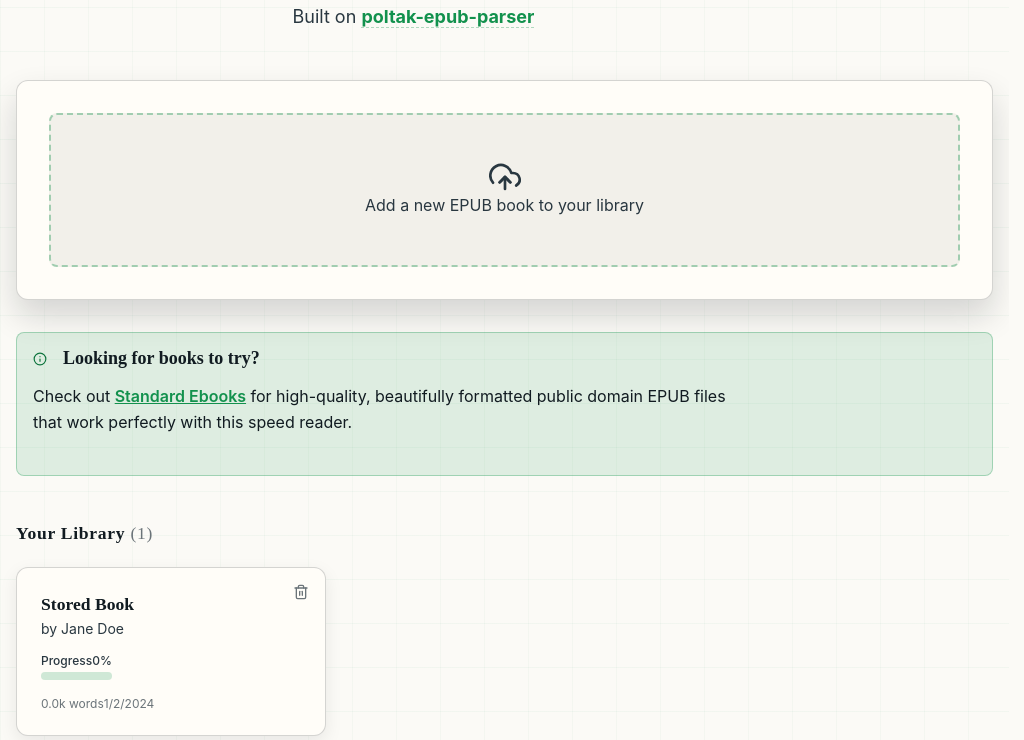
SpeedReader page › reports incomplete stored EPUB data instead of leaving a partial reader state
(page scrolled)
Click the button with aria-label "Open Stored Book" at (171, 652), box [41,592,301,711]
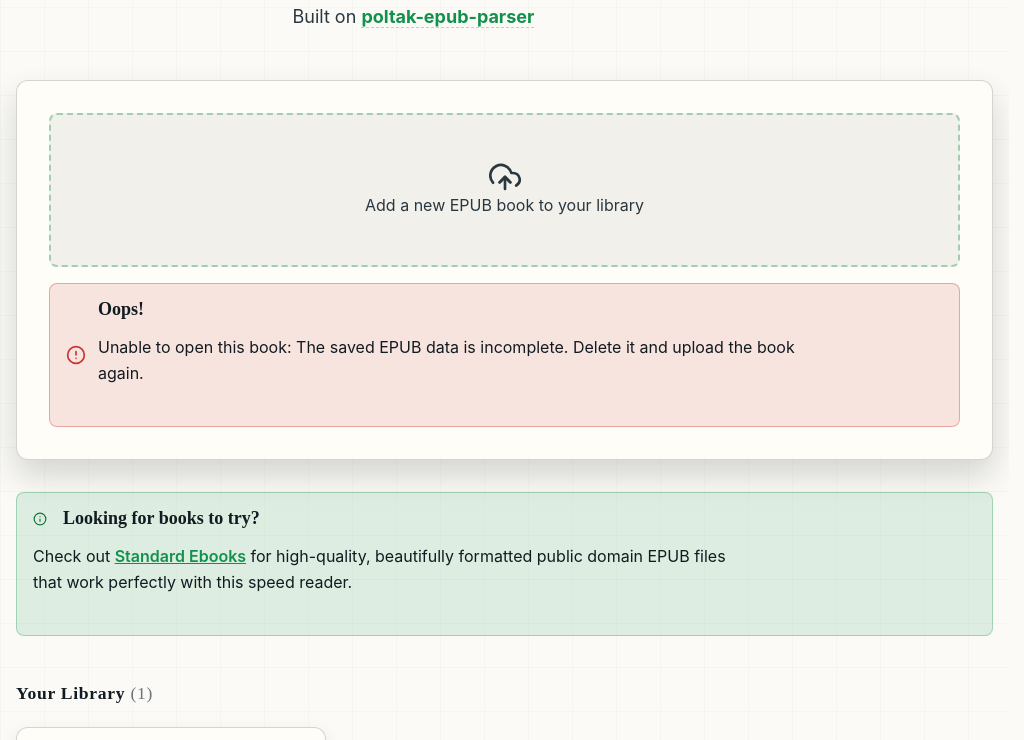
Result: the text "Unable to open this book: The saved EPUB data is incomplete. Delete it and upload the book again." is shown at [98,337,795,383]
